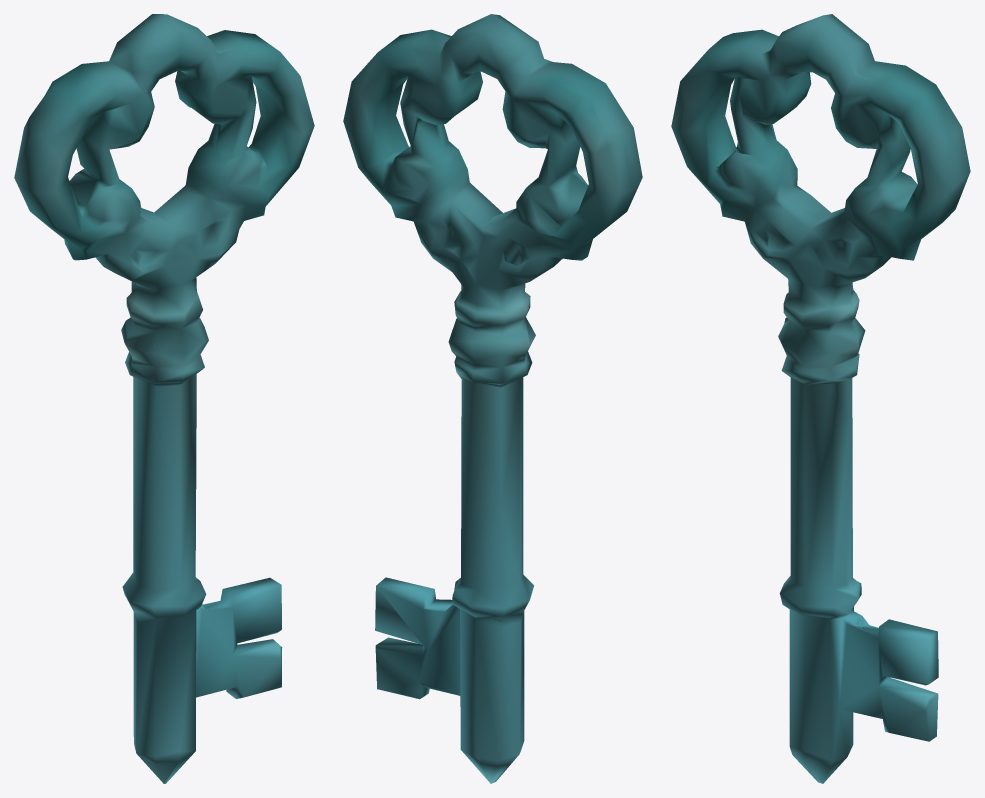
The model's file is gen3d-ice-key-lod1.glb.
The picture shows the model from 3 angles, left to right: view 1: azimuth 30°, elevation 25°; view 2: azimuth 150°, elevation 25°; view 3: azimuth 330°, elevation 25°; orthographic projection.
Parts seen in each view (by area): view 1: part_0; view 2: part_0; view 3: part_0.
Boxes of the visible parts, x1=… form: part_0: x1=14, y1=14, x2=314, y2=783; part_0: x1=343, y1=14, x2=642, y2=783; part_0: x1=671, y1=14, x2=970, y2=783.
Bounding box in the file's own units: 0.3796 × 0.9999 × 0.107.
